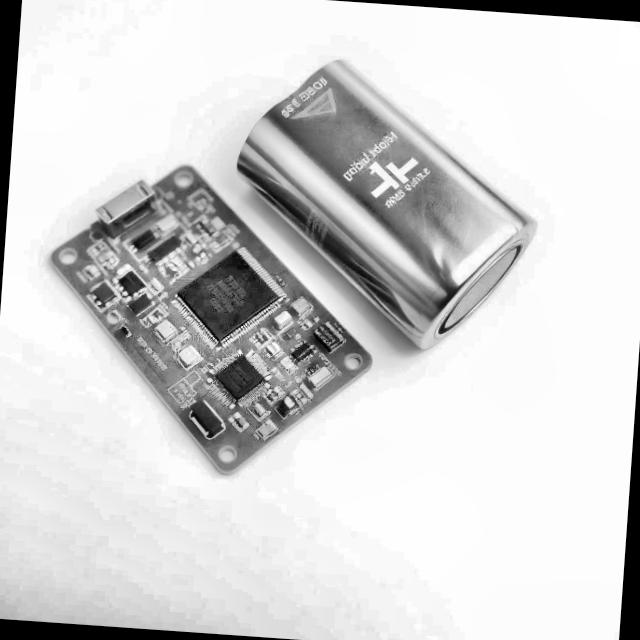Battery: (224, 41, 554, 362)
PCB: (34, 147, 381, 496)
